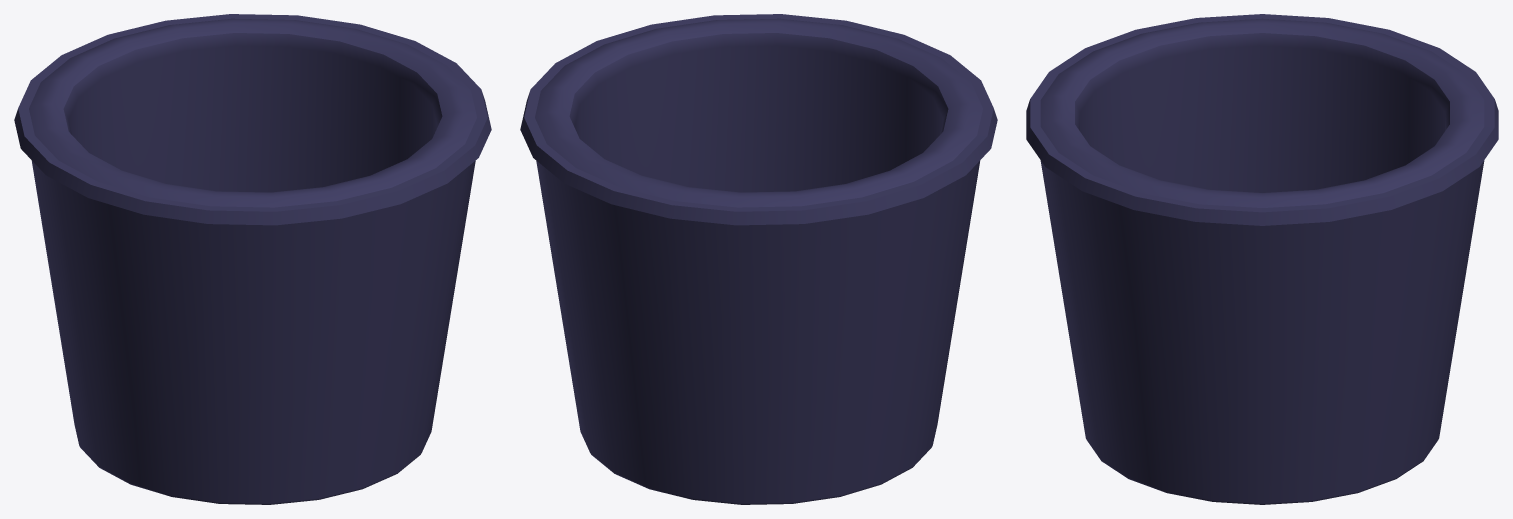
File: FBX_Bucket.fbx
The picture shows the model from 3 angles, left to right: view 1: azimuth 30°, elevation 25°; view 2: azimuth 150°, elevation 25°; view 3: azimuth 270°, elevation 25°; orthographic projection.
Visible parts, largest first — view 1: pCylinder1; view 2: pCylinder1; view 3: pCylinder1.
Boxes of the visible parts, <box> form: pCylinder1: <box>14,14,491,504</box>; pCylinder1: <box>520,14,997,504</box>; pCylinder1: <box>1026,14,1498,504</box>.
Bounding box in the file's own units: 0.7167 × 0.5345 × 0.7094.
